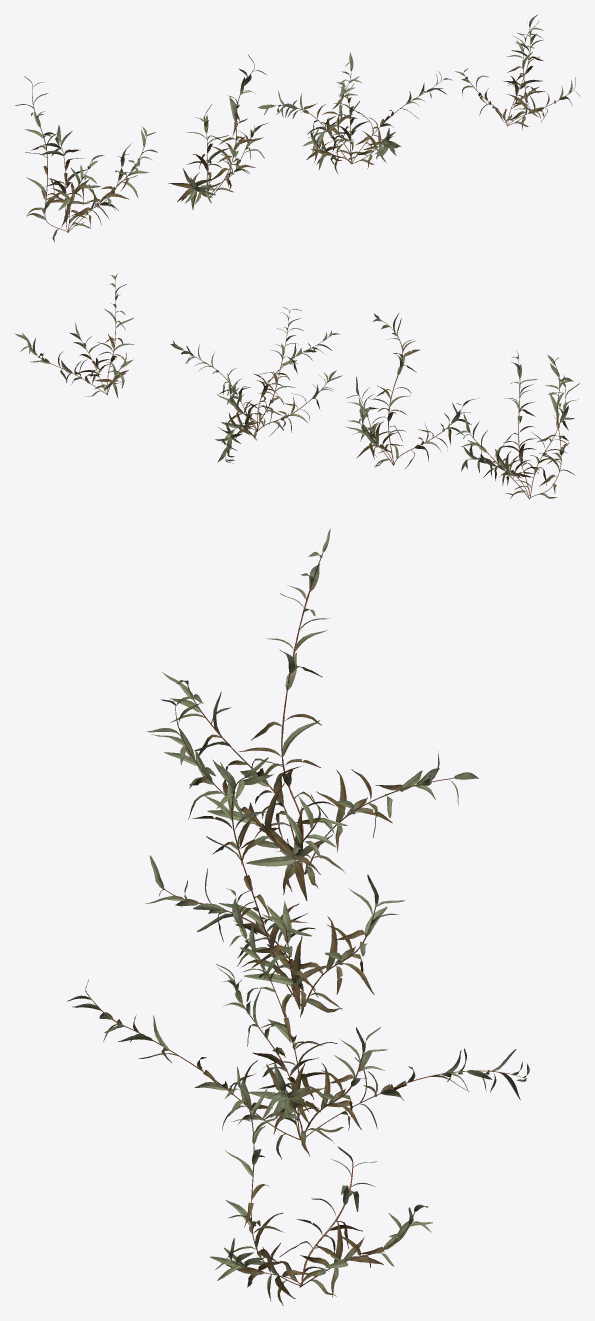
File: shrub_02.gltf
3 views of the same model, one above another, from view 1: azimuth 30°, elevation 25°; view 2: azimuth 150°, elevation 25°; view 3: azimuth 270°, elevation 25° (orthographic). The views are drawn at different scales.
Parts seen in each view (by area): view 1: shrub_02_c, shrub_02_a, shrub_02_b, shrub_02_d; view 2: shrub_02_a, shrub_02_c, shrub_02_b, shrub_02_d; view 3: shrub_02_a, shrub_02_c, shrub_02_b, shrub_02_d.
Part boxes in pixels (x1=…): shrub_02_c: x1=257, y1=52, x2=452, y2=174; shrub_02_a: x1=15, y1=76, x2=157, y2=242; shrub_02_b: x1=168, y1=54, x2=268, y2=209; shrub_02_d: x1=455, y1=14, x2=580, y2=129; shrub_02_a: x1=455, y1=350, x2=579, y2=499; shrub_02_c: x1=170, y1=307, x2=342, y2=463; shrub_02_b: x1=345, y1=313, x2=479, y2=468; shrub_02_d: x1=14, y1=274, x2=134, y2=398; shrub_02_a: x1=147, y1=528, x2=478, y2=900; shrub_02_c: x1=67, y1=888, x2=529, y2=1159; shrub_02_b: x1=145, y1=757, x2=404, y2=1018; shrub_02_d: x1=210, y1=1066, x2=432, y2=1305.
Bounding box in the file's own units: 6.05 × 1.7 × 2.29.
Materials: 1 (1 with a texture image).
